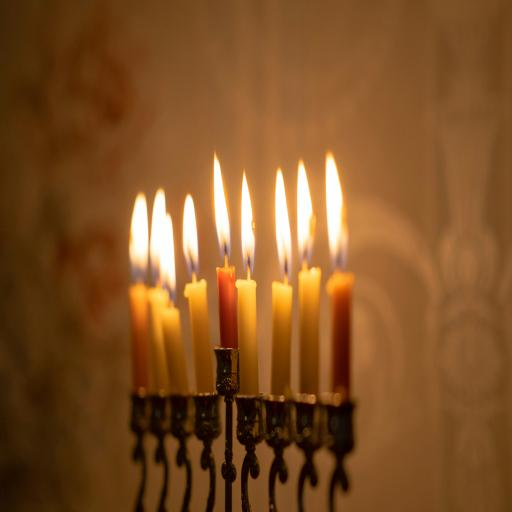candlelight: (322, 144, 355, 395), (148, 188, 176, 390), (182, 192, 210, 392), (270, 165, 293, 401), (235, 166, 258, 399), (296, 160, 318, 401), (127, 190, 151, 395), (212, 151, 235, 350), (161, 303, 190, 395), (181, 192, 200, 286)
